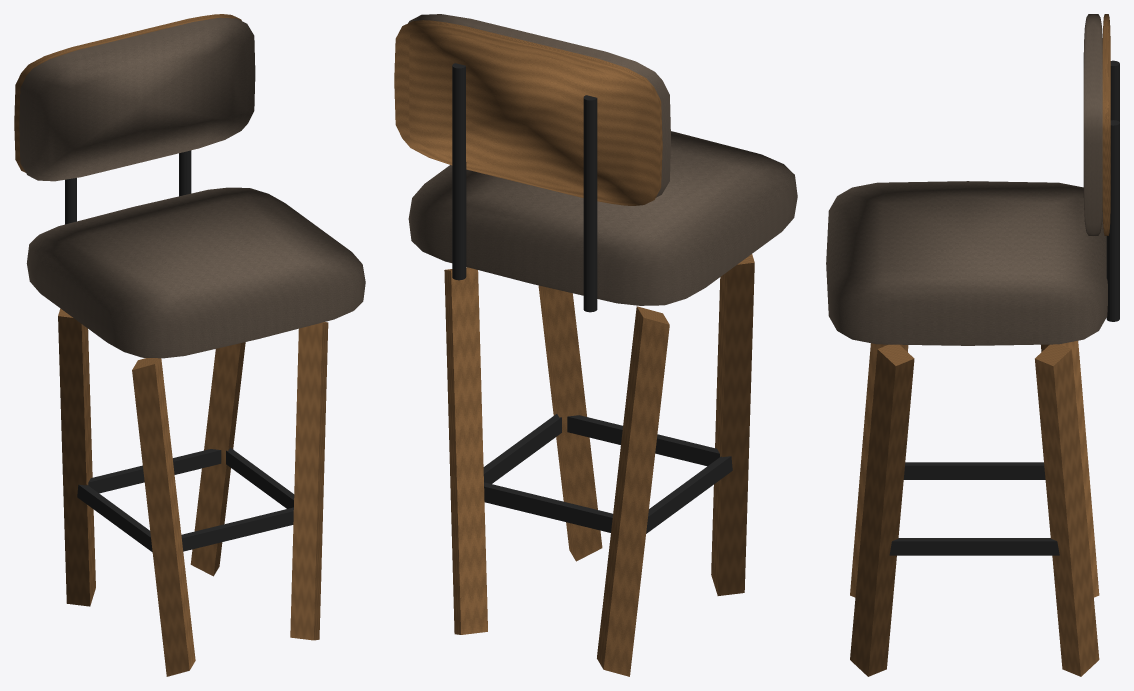
3 renders of one model, left to right at view 1: azimuth 30°, elevation 25°; view 2: azimuth 150°, elevation 25°; view 3: azimuth 270°, elevation 25°, orthographic. The views are drawn at different scales.
Parts seen in each view (by area): view 1: 1 seat, 2 backrest, 7 leg_front_left, 8 leg_front_right, 9 leg_back_left, 10 leg_back_right, 11 footrest_front, 12 footrest_back, 3 backrest_wood_panel, 13 footrest_left, 14 footrest_right, 5 backrest_support_right (+1 smaller); view 2: 1 seat, 3 backrest_wood_panel, 9 leg_back_left, 10 leg_back_right, 7 leg_front_left, 8 leg_front_right, 2 backrest, 4 backrest_support_left, 5 backrest_support_right, 12 footrest_back, 11 footrest_front, 13 footrest_left (+1 smaller); view 3: 1 seat, 8 leg_front_right, 10 leg_back_right, 2 backrest, 14 footrest_right, 13 footrest_left, 5 backrest_support_right, 9 leg_back_left, 3 backrest_wood_panel, 7 leg_front_left, 4 backrest_support_left.
Part boxes in pixels (left/top/right/bottom): 1 seat: left=26, top=187, right=365, bottom=358; 2 backrest: left=19, top=17, right=255, bottom=181; 7 leg_front_left: left=132, top=358, right=195, bottom=676; 8 leg_front_right: left=290, top=322, right=328, bottom=640; 9 leg_back_left: left=58, top=308, right=95, bottom=606; 10 leg_back_right: left=190, top=342, right=245, bottom=576; 11 footrest_front: left=181, top=507, right=293, bottom=551; 12 footrest_back: left=88, top=449, right=221, bottom=493; 3 backrest_wood_panel: left=14, top=14, right=241, bottom=172; 13 footrest_left: left=77, top=484, right=152, bottom=552; 14 footrest_right: left=226, top=447, right=294, bottom=508; 5 backrest_support_right: left=179, top=150, right=191, bottom=196; 1 seat: left=408, top=131, right=797, bottom=305; 3 backrest_wood_panel: left=394, top=20, right=662, bottom=205; 9 leg_back_left: left=597, top=306, right=669, bottom=676; 10 leg_back_right: left=444, top=267, right=487, bottom=634; 7 leg_front_left: left=711, top=254, right=754, bottom=595; 8 leg_front_right: left=538, top=285, right=602, bottom=561; 2 backrest: left=408, top=14, right=670, bottom=197; 4 backrest_support_left: left=583, top=95, right=597, bottom=312; 5 backrest_support_right: left=452, top=63, right=466, bottom=280; 12 footrest_back: left=484, top=482, right=612, bottom=532; 11 footrest_front: left=567, top=415, right=719, bottom=466; 13 footrest_left: left=646, top=456, right=732, bottom=533; 1 seat: left=826, top=181, right=1107, bottom=345; 8 leg_front_right: left=850, top=344, right=914, bottom=676; 10 leg_back_right: left=1035, top=344, right=1099, bottom=676; 2 backrest: left=1083, top=14, right=1102, bottom=235; 14 footrest_right: left=889, top=538, right=1059, bottom=555; 13 footrest_left: left=903, top=462, right=1045, bottom=479; 5 backrest_support_right: left=1106, top=120, right=1119, bottom=321; 9 leg_back_left: left=1041, top=340, right=1099, bottom=597; 3 backrest_wood_panel: left=1102, top=14, right=1110, bottom=235; 7 leg_front_left: left=850, top=343, right=908, bottom=597; 4 backrest_support_left: left=1110, top=60, right=1119, bottom=122.
Bounding box in the file's own units: 0.48 × 1 × 0.46.
3 materials, 2 textured.
